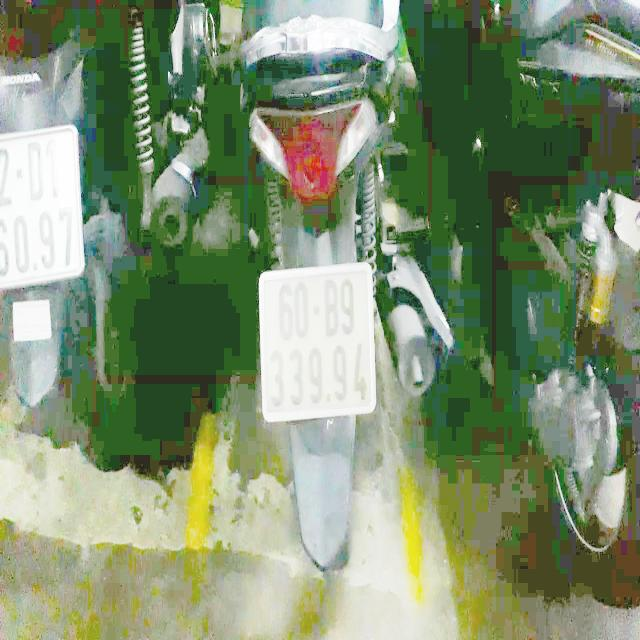license_plate: (265, 267, 375, 423)
